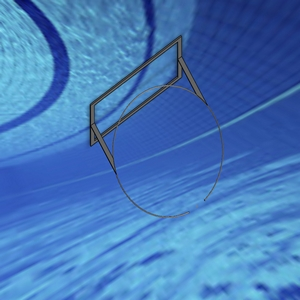circle: (87, 34, 225, 218)
